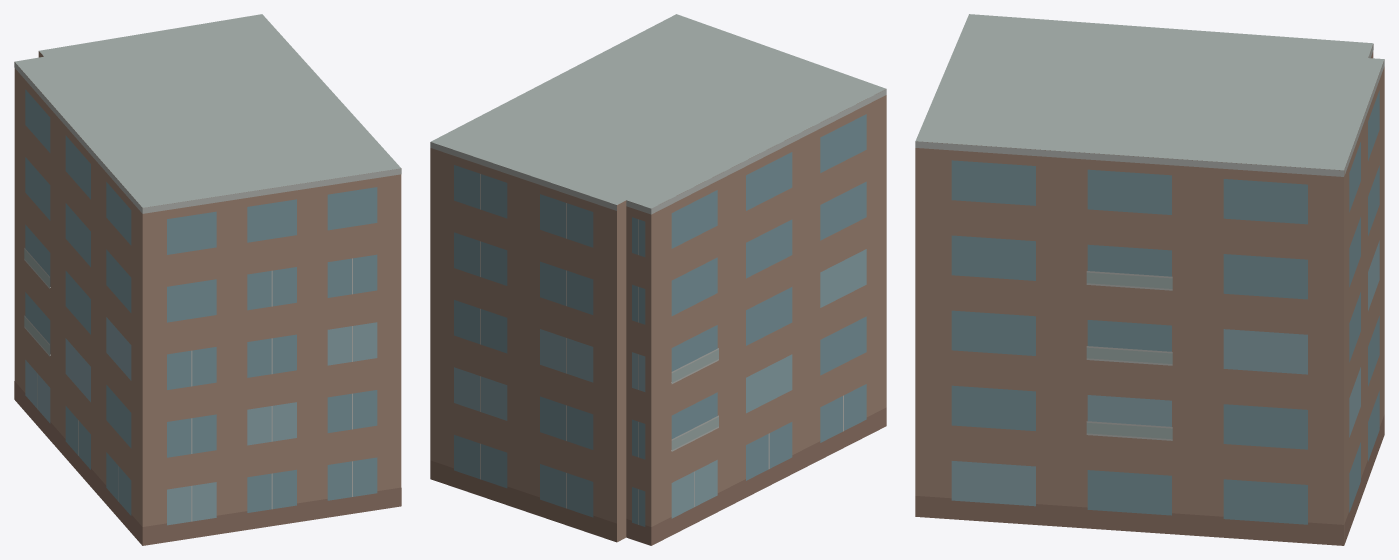
Rendered from survey-upis-32849560.glb.
The picture shows the model from 3 angles, left to right: view 1: azimuth 30°, elevation 25°; view 2: azimuth 150°, elevation 25°; view 3: azimuth 270°, elevation 25°; orthographic projection. The views are drawn at different scales.
Parts seen in each view (by area): view 1: survey-upis-32849560.tmp; view 2: survey-upis-32849560.tmp; view 3: survey-upis-32849560.tmp.
Boxes of the visible parts, x1,y1,x2,y2 form: survey-upis-32849560.tmp: [14, 14, 401, 545]; survey-upis-32849560.tmp: [430, 14, 886, 545]; survey-upis-32849560.tmp: [915, 14, 1384, 545].
Size of the model in its own units: 12.33 by 13.8 by 15.64.
